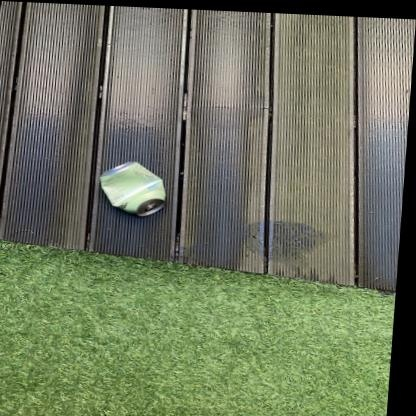trash: (100, 162, 165, 215)
